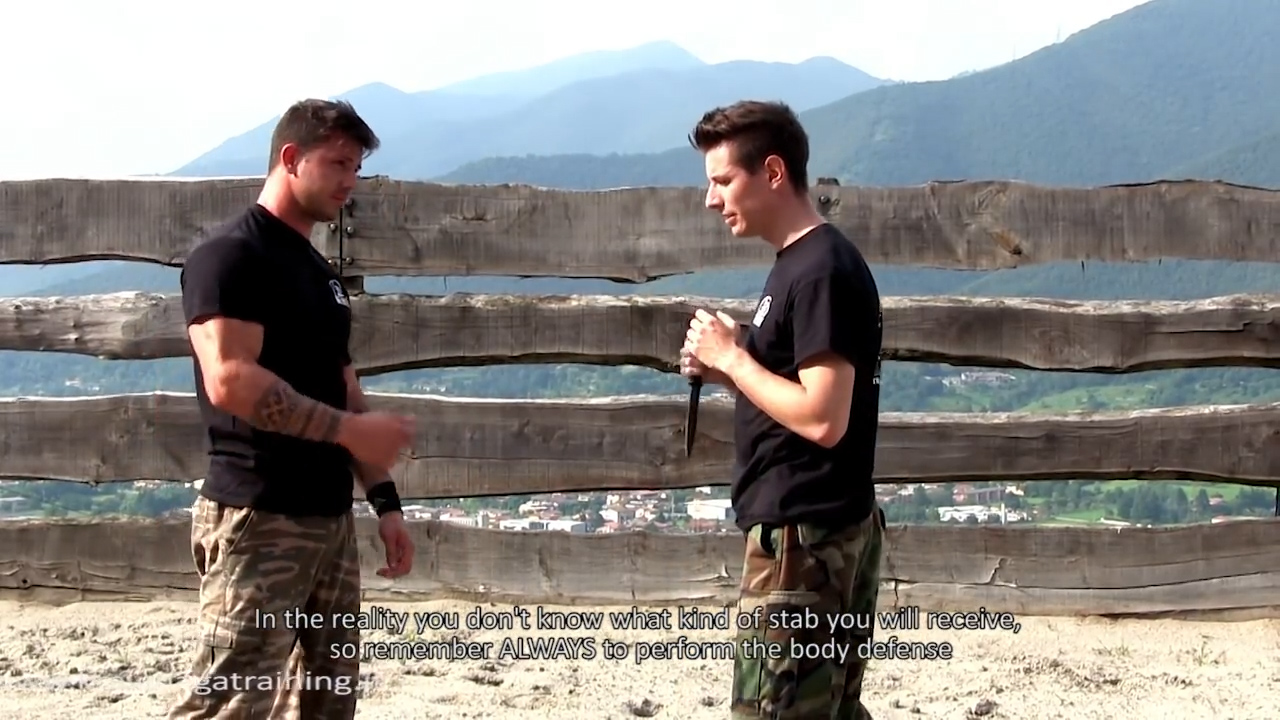knife: (677, 305, 727, 464)
